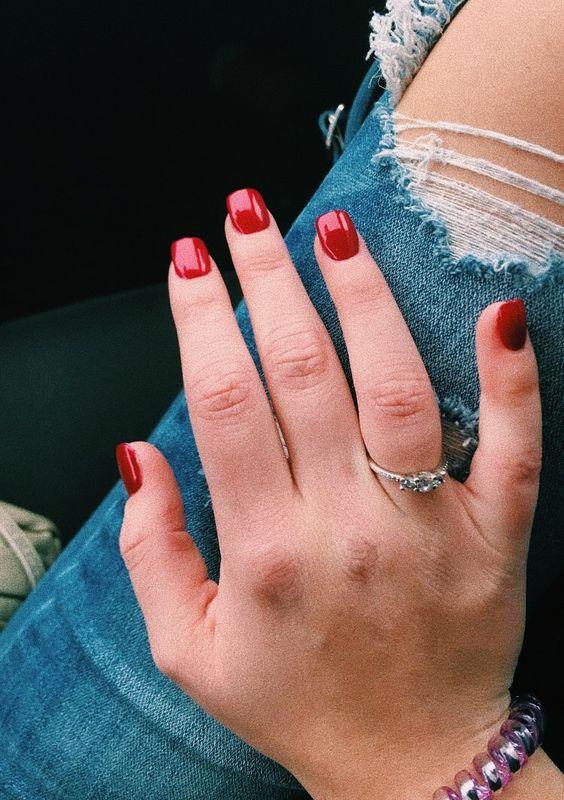nails: (98, 424, 170, 502), (476, 296, 545, 360), (207, 183, 285, 239), (150, 227, 222, 283), (304, 208, 372, 266)
